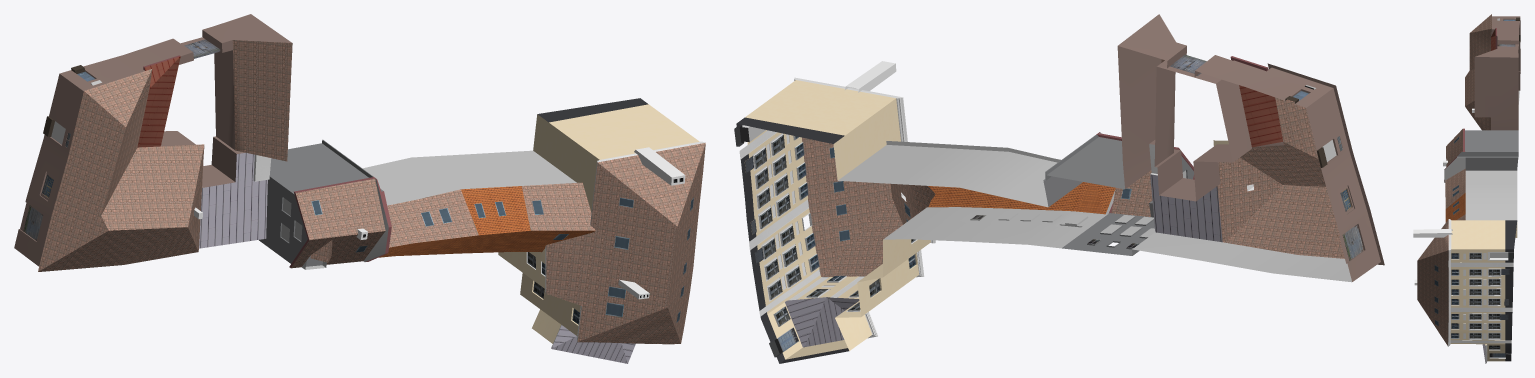
The model's file is Lai_52a.obj.
The picture shows the model from 3 angles, left to right: view 1: azimuth 30°, elevation 25°; view 2: azimuth 150°, elevation 25°; view 3: azimuth 270°, elevation 25°; orthographic projection. The views are drawn at different scales.
Parts seen in each view (by area): view 1: Lai_52a; view 2: Lai_52a; view 3: Lai_52a.
Part boxes in pixels (<box>): Lai_52a: <box>14,14,705,363</box>; Lai_52a: <box>734,14,1384,363</box>; Lai_52a: <box>1413,14,1520,363</box>.
Bounding box in the file's own units: 73.11 × 45.86 × 20.45.
